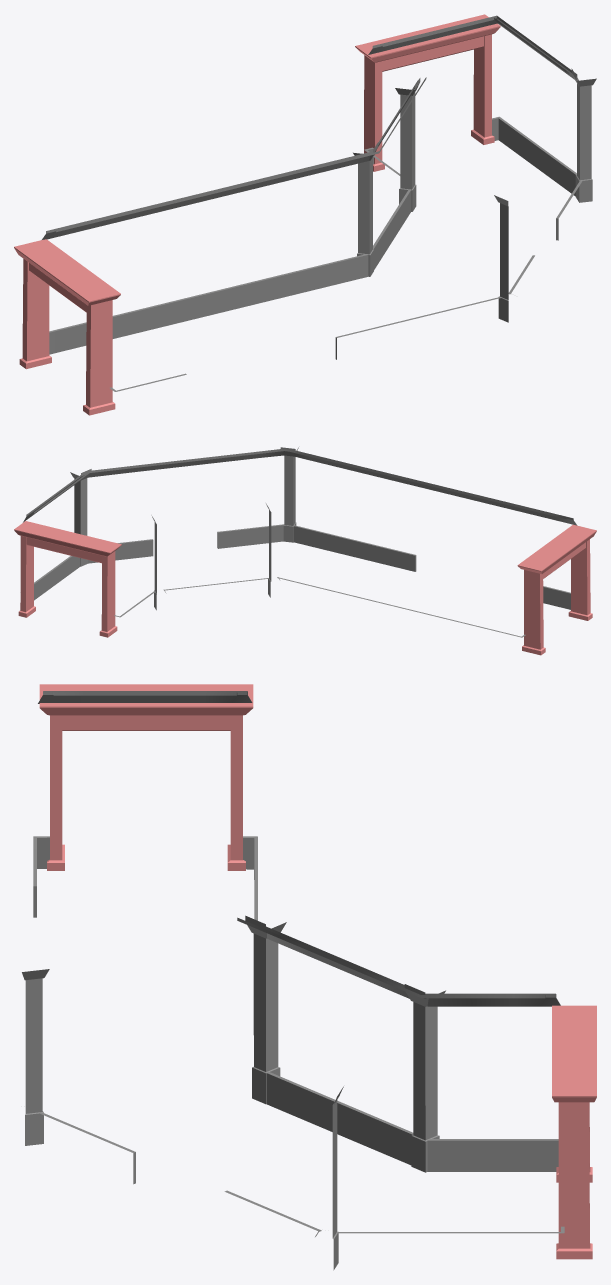
Rendered from S_Envi_Fyz_BuildingRoom_05a.gltf.
3 renders of one model, top to bottom at view 1: azimuth 30°, elevation 25°; view 2: azimuth 150°, elevation 25°; view 3: azimuth 270°, elevation 25°, orthographic. The views are drawn at different scales.
Visible parts, largest first — view 1: S_Envi_Fyz_BuildingRoom_05a; view 2: S_Envi_Fyz_BuildingRoom_05a; view 3: S_Envi_Fyz_BuildingRoom_05a.
Boxes of the visible parts, x1=… form: S_Envi_Fyz_BuildingRoom_05a: x1=14, y1=14, x2=596, y2=415; S_Envi_Fyz_BuildingRoom_05a: x1=14, y1=447, x2=596, y2=655; S_Envi_Fyz_BuildingRoom_05a: x1=22, y1=684, x2=596, y2=1270.
Bounding box in the file's own units: 22.65 × 4.59 × 13.21.
